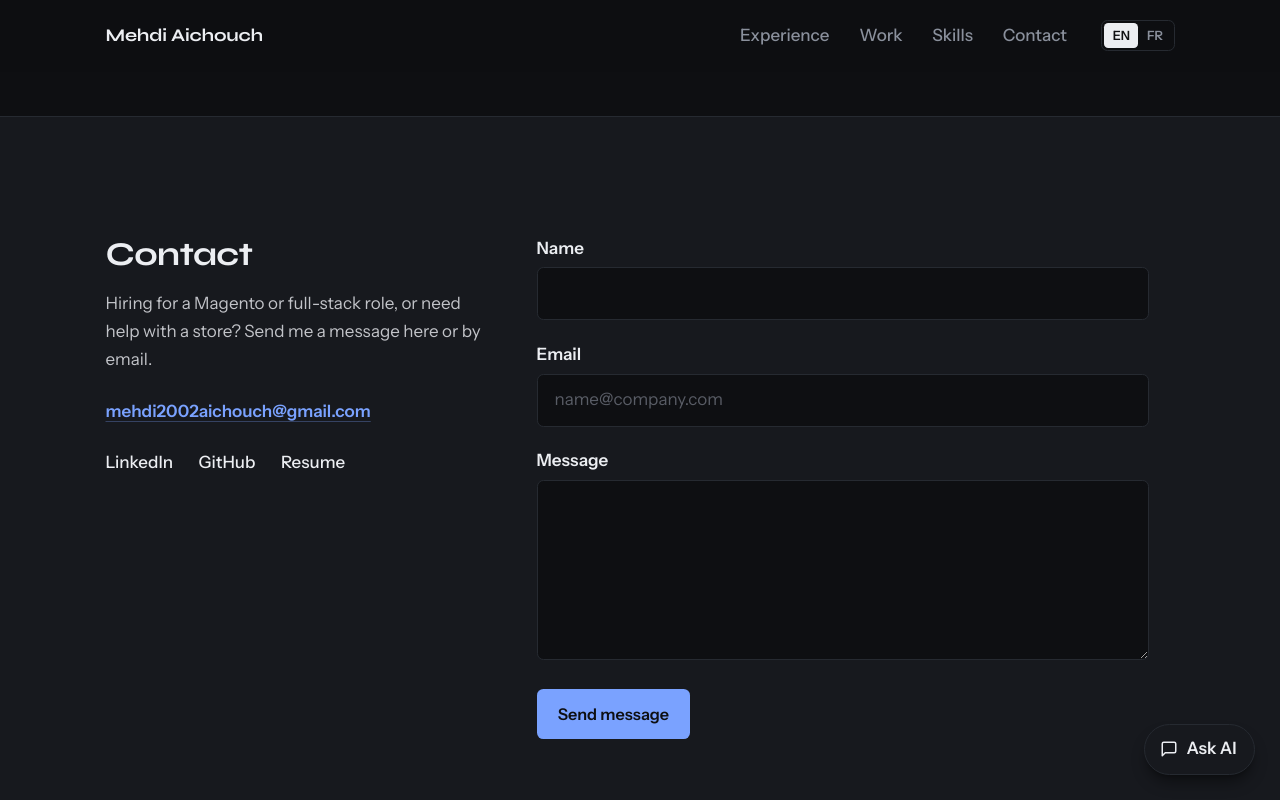
Contact form validation › shows an inline error for an invalid email
(page scrolled)
Type "not-an-email" into the field labelled "Email" at [842, 400], box [536,374,1148,427]
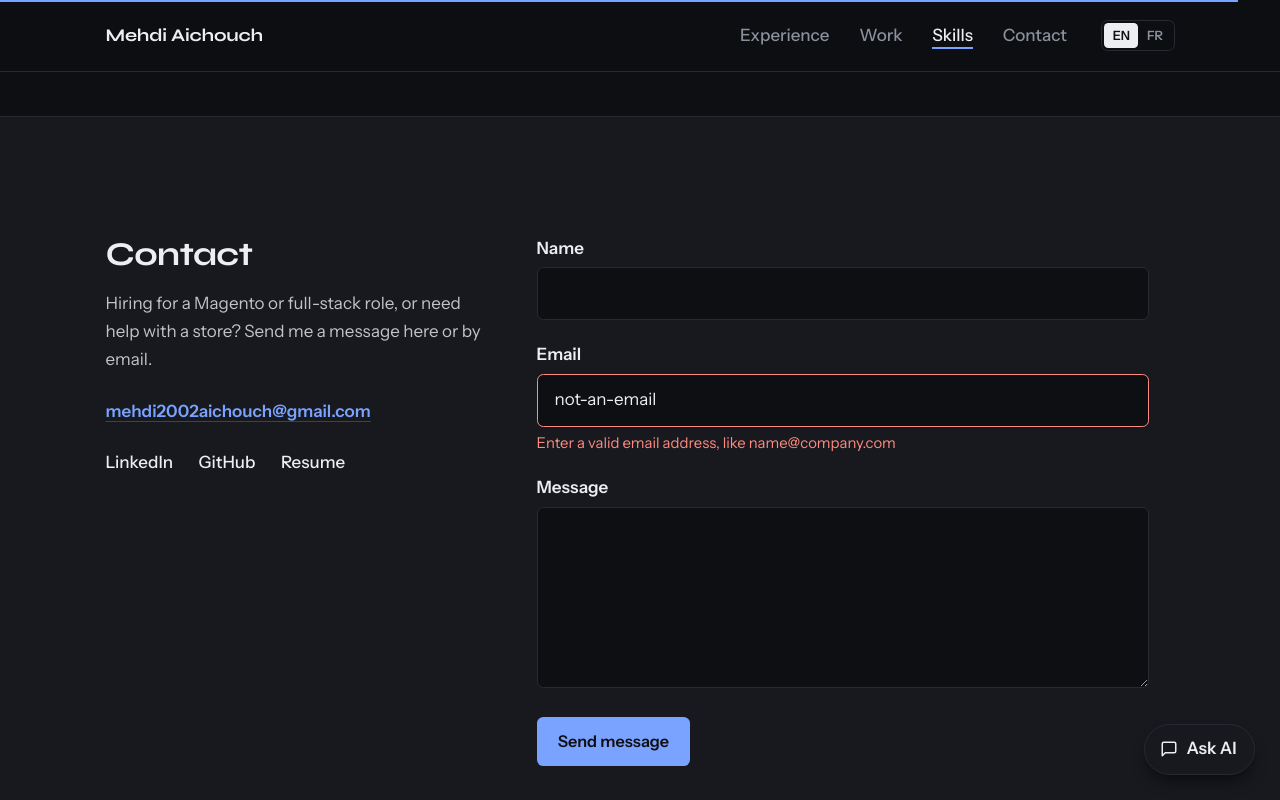
Check: the text "Enter a valid email address, like name@company.com" is shown, box [536,434,896,452]
